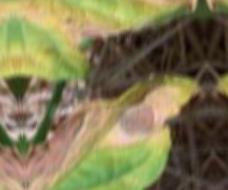Tomato Early blight leaf: (19, 82, 215, 190), (11, 0, 208, 91)
